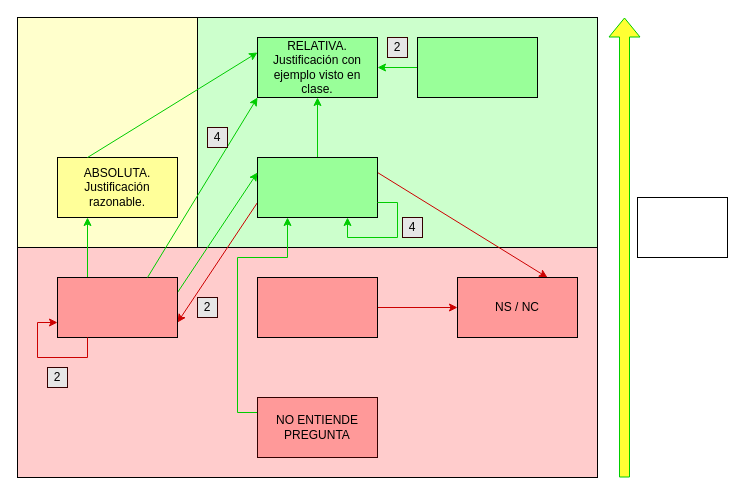
Image size: 745x495. Some labels were removed from this diagram. Each missing label, with the box of its shape:
ABSOLUTA. Sin justificar.: (56, 276, 178, 338)
CORRECCIÓN DE LAS RESPUESTAS: (636, 196, 728, 258)
RELATIVA. Justificación con ejemplo no visto en clase.: (416, 36, 538, 98)
RELATIVA. Justificación incorrecta.: (256, 276, 378, 338)
RELATIVA. Sin justificar.: (256, 156, 378, 218)
